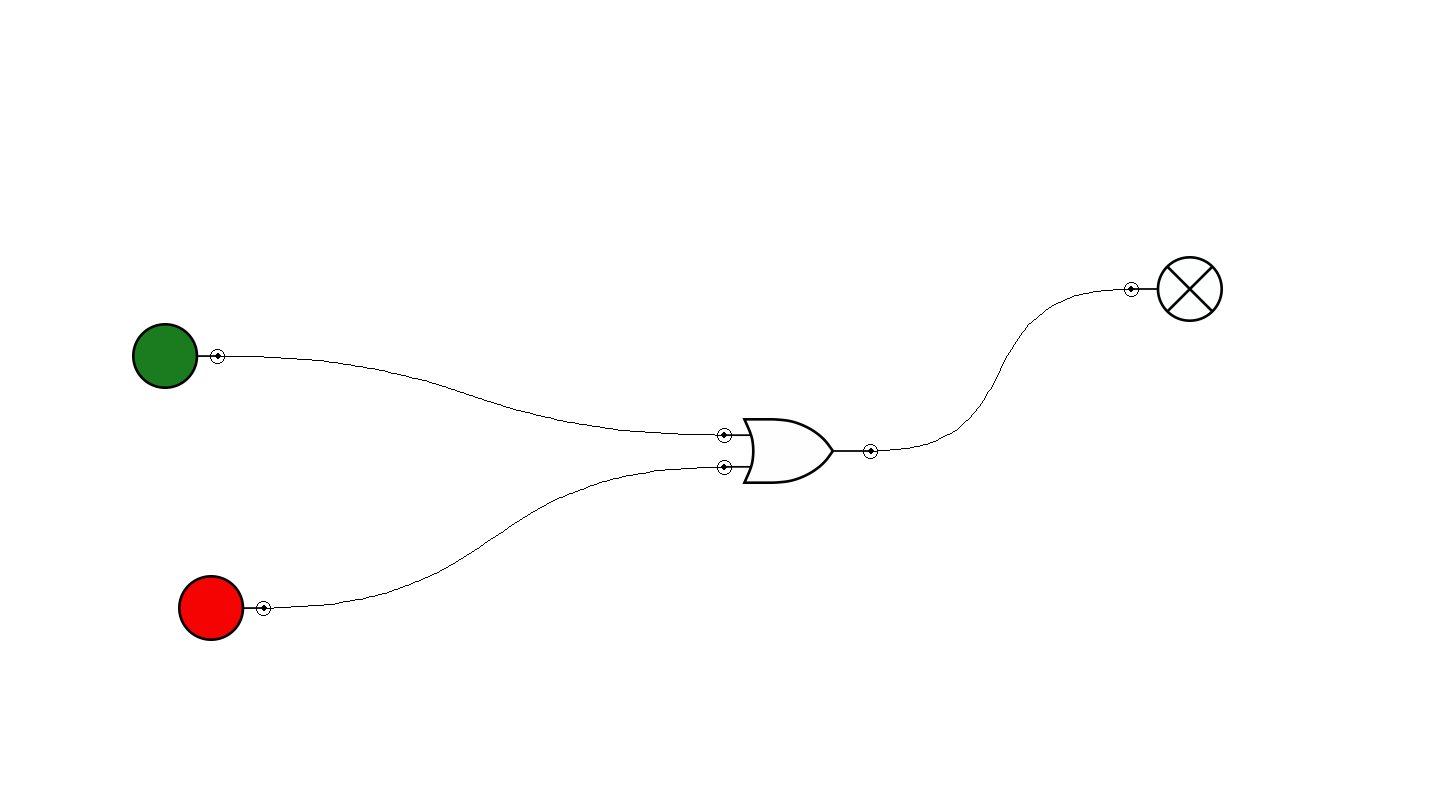bulb: (1124, 256, 1223, 322)
or: (717, 418, 878, 484)
switch_False: (178, 575, 271, 641)
switch_True: (132, 323, 225, 389)
